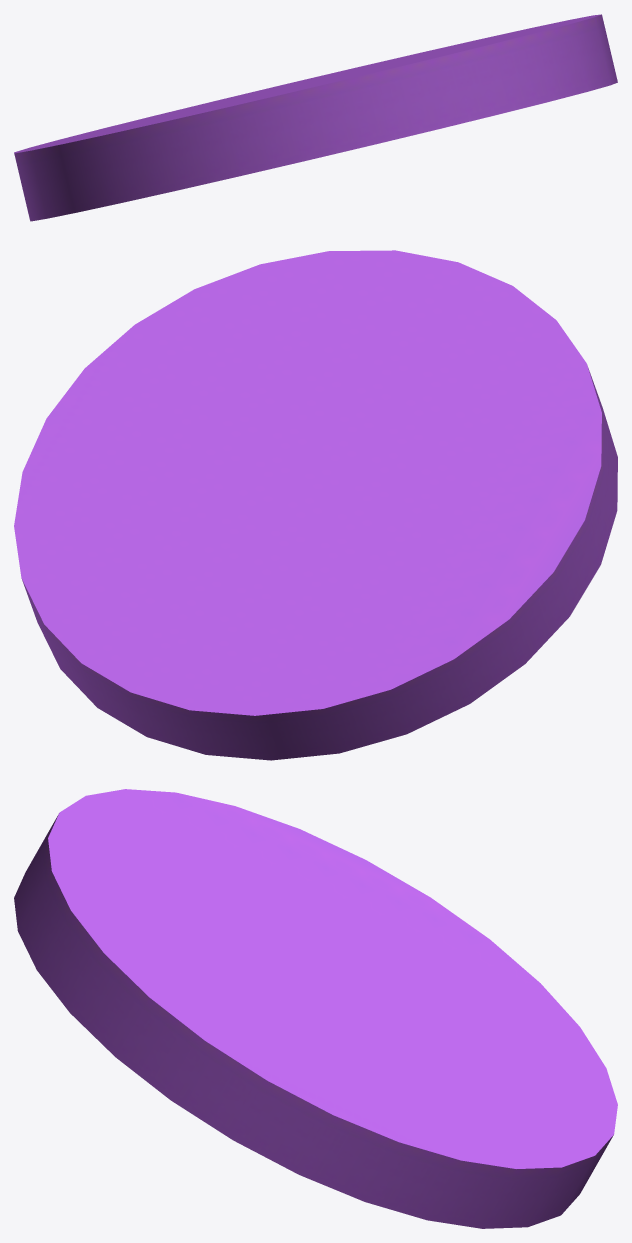
Rendered from effect_UI_yingbi_dongzuo.fbx.
3 views of the same model, one above another, from view 1: azimuth 30°, elevation 25°; view 2: azimuth 150°, elevation 25°; view 3: azimuth 270°, elevation 25° (orthographic). The views are drawn at different scales.
Parts seen in each view (by area): view 1: effect_UI_yingbi; view 2: effect_UI_yingbi; view 3: effect_UI_yingbi.
Boxes of the visible parts, x1,y1,x2,y2 form: effect_UI_yingbi: (14, 14, 617, 221); effect_UI_yingbi: (14, 250, 617, 760); effect_UI_yingbi: (14, 789, 617, 1228).
Size of the model in its own units: 0.1268 by 0.0713 by 0.1196.
